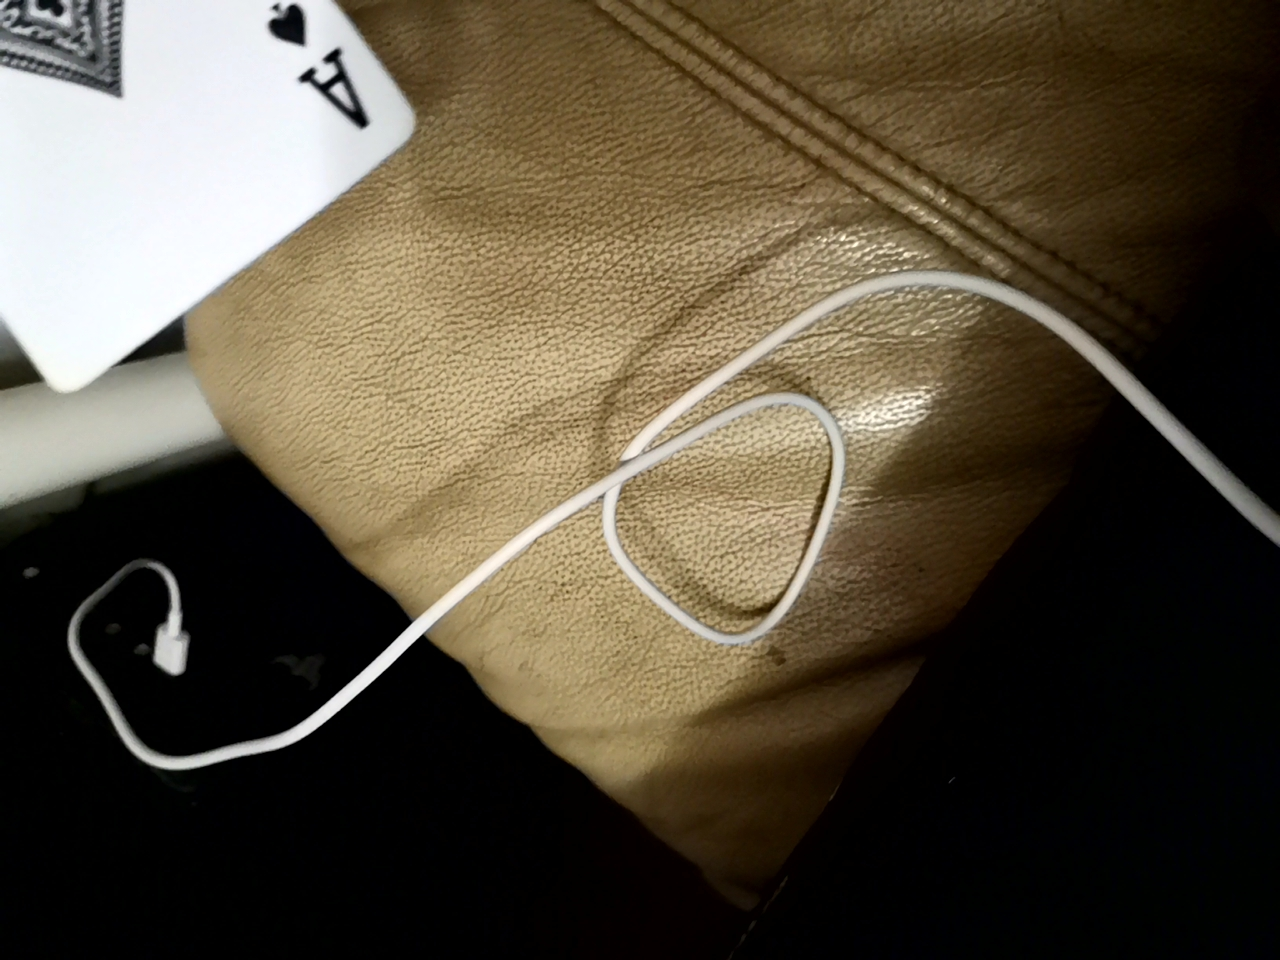ht a: (3, 1, 418, 439)
